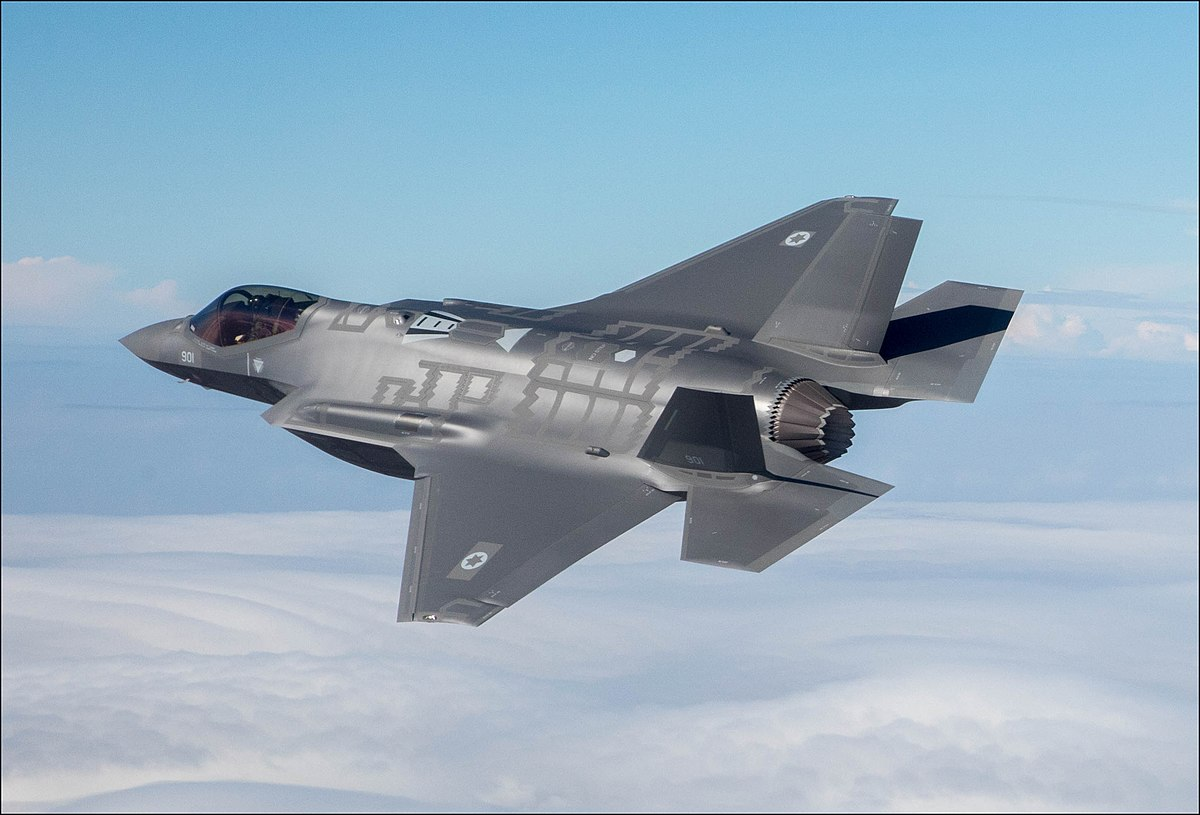F-35 Lightning: (101, 161, 1042, 632)
